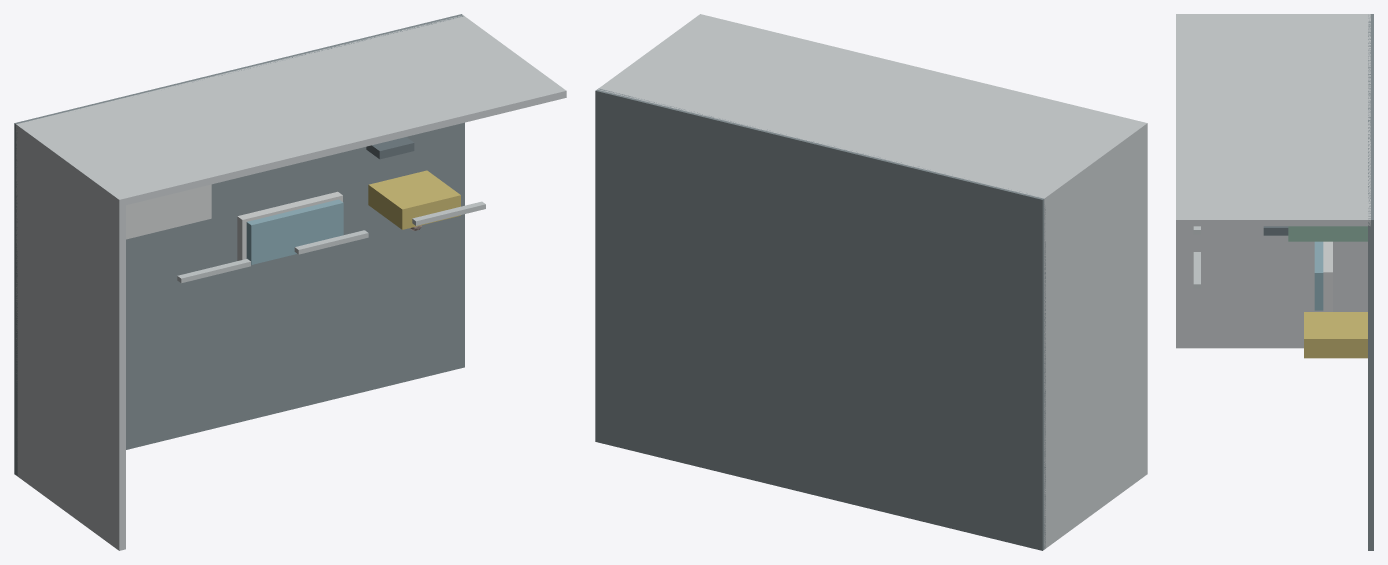
The model's file is pediatrics-room-high.glb.
3 renders of one model, left to right at view 1: azimuth 30°, elevation 25°; view 2: azimuth 150°, elevation 25°; view 3: azimuth 270°, elevation 25°, orthographic. The views are drawn at different scales.
Visible parts, largest first — view 1: floor, wall_back, wall_left, pediatric_mattress, play_shelf, exam_table, pediatric_bed, monitor, ceiling_panel_2, ceiling_panel_3, ceiling_panel_1; view 2: floor, wall_back, wall_left; view 3: wall_back, wall_left, floor, play_shelf, supplies_cabinet, pediatric_bed, pediatric_mattress, ceiling_panel_3, monitor.
Boxes of the visible parts, x1,y1,x2,y2 form: floor: (14, 14, 464, 476); wall_back: (16, 15, 566, 206); wall_left: (16, 122, 125, 550); pediatric_mattress: (246, 199, 343, 264); play_shelf: (368, 170, 460, 229); exam_table: (126, 184, 211, 239); pediatric_bed: (237, 191, 342, 260); monitor: (366, 137, 414, 159); ceiling_panel_2: (294, 230, 368, 254); ceiling_panel_3: (412, 201, 485, 225); ceiling_panel_1: (177, 259, 250, 283); floor: (595, 88, 1045, 550); wall_back: (598, 14, 1147, 204); wall_left: (1038, 121, 1147, 549); wall_back: (1176, 14, 1370, 226); wall_left: (1176, 14, 1370, 348); floor: (1368, 14, 1373, 550); play_shelf: (1304, 312, 1367, 358); supplies_cabinet: (1288, 226, 1367, 241); pediatric_bed: (1323, 241, 1332, 311); pediatric_mattress: (1314, 241, 1323, 310); ceiling_panel_3: (1193, 252, 1200, 288); monitor: (1263, 226, 1288, 235).
Size of the model in its own units: 8 by 6 by 3.25.
